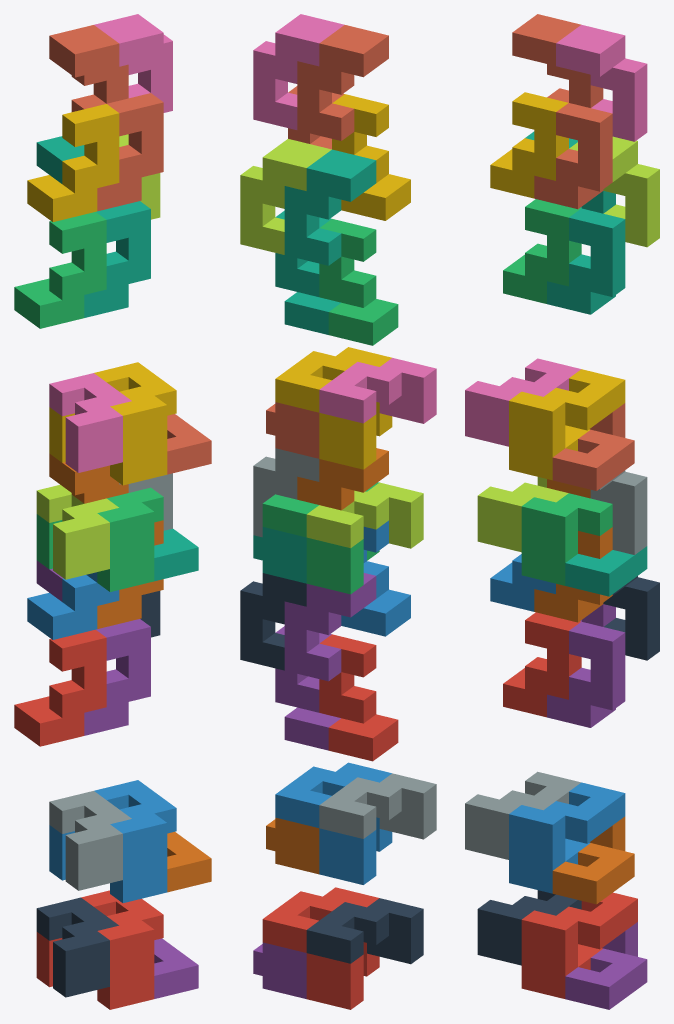
File: tiling.obj
3 views of the same model, side by side, from view 1: azimuth 30°, elevation 25°; view 2: azimuth 150°, elevation 25°; view 3: azimuth 330°, elevation 25° (orthographic).
Visible parts, largest first — view 1: copy_4_domain_4, copy_4_domain_3, copy_4_domain_1, copy_2_domain_2, copy_2_domain_4, copy_2_domain_1, copy_2_domain_3, copy_4_domain_8, copy_2_domain_6, copy_2_domain_8, copy_4_domain_5, copy_4_domain_7 (+20 smaller); view 2: copy_3_domain_3, copy_3_domain_4, copy_4_domain_3, copy_4_domain_1, copy_2_domain_2, copy_2_domain_4, copy_2_domain_1, copy_3_domain_1, copy_3_domain_7, copy_3_domain_8, copy_2_domain_3, copy_4_domain_4 (+19 smaller); view 3: copy_2_domain_6, copy_2_domain_8, copy_3_domain_8, copy_2_domain_5, copy_4_domain_7, copy_4_domain_5, copy_4_domain_8, copy_4_domain_4, copy_4_domain_3, copy_4_domain_1, copy_2_domain_7, copy_2_domain_4 (+19 smaller).
Part boxes in pixels (x1,y1,x2,y2): copy_4_domain_4: [27, 104, 119, 221]; copy_4_domain_3: [14, 212, 106, 328]; copy_4_domain_1: [14, 629, 106, 746]; copy_2_domain_2: [49, 791, 131, 890]; copy_2_domain_4: [49, 373, 131, 472]; copy_2_domain_1: [36, 897, 118, 997]; copy_2_domain_3: [36, 484, 118, 579]; copy_4_domain_8: [97, 93, 163, 211]; copy_2_domain_6: [94, 780, 176, 879]; copy_2_domain_8: [94, 362, 176, 461]; copy_4_domain_5: [84, 619, 150, 735]; copy_4_domain_7: [84, 201, 150, 317]; copy_3_domain_3: [284, 149, 376, 265]; copy_3_domain_4: [297, 25, 388, 140]; copy_4_domain_3: [319, 219, 398, 345]; copy_4_domain_1: [319, 634, 398, 761]; copy_2_domain_2: [319, 773, 436, 839]; copy_2_domain_4: [319, 358, 436, 423]; copy_2_domain_1: [306, 898, 423, 964]; copy_3_domain_1: [284, 573, 376, 681]; copy_3_domain_7: [240, 139, 331, 254]; copy_3_domain_8: [253, 14, 344, 129]; copy_2_domain_3: [306, 482, 423, 548]; copy_4_domain_4: [332, 94, 410, 220]; copy_2_domain_6: [509, 782, 625, 870]; copy_2_domain_8: [509, 369, 625, 457]; copy_3_domain_8: [556, 24, 647, 141]; copy_2_domain_5: [521, 892, 637, 976]; copy_4_domain_7: [547, 208, 625, 314]; copy_4_domain_5: [547, 621, 625, 727]; copy_4_domain_8: [534, 103, 612, 209]; copy_4_domain_4: [490, 92, 568, 198]; copy_4_domain_3: [503, 199, 581, 303]; copy_4_domain_1: [503, 612, 581, 717]; copy_2_domain_7: [521, 493, 612, 562]; copy_2_domain_4: [465, 358, 580, 446].
Bounding box in the file's own units: 6 × 41 × 5.
